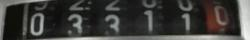digits: (176, 1, 205, 36), (29, 13, 45, 35), (103, 13, 120, 32), (67, 13, 83, 32), (213, 5, 229, 24), (143, 9, 153, 31)
